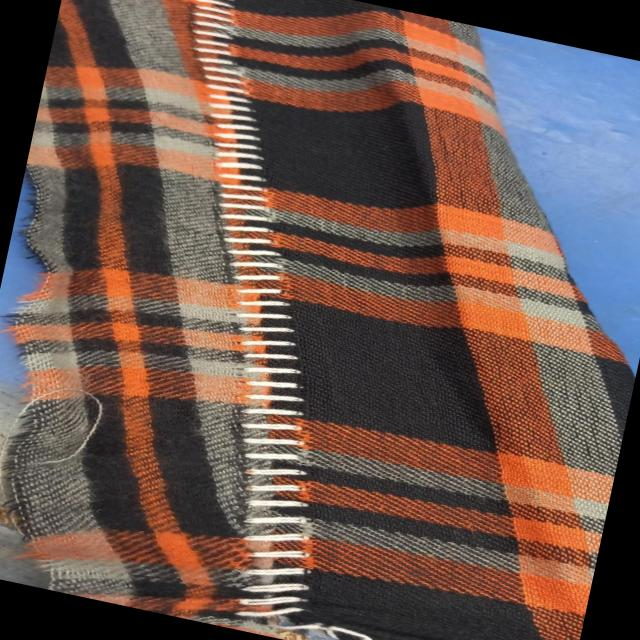gray stitch: (61, 0, 464, 640)
